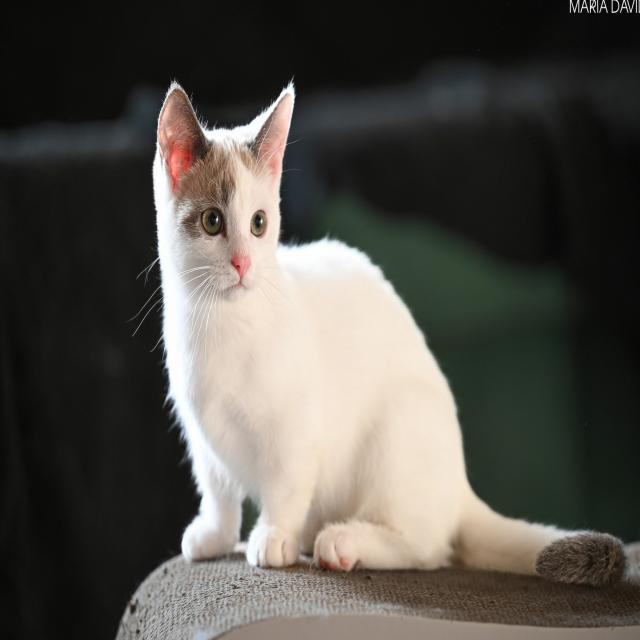Munchkin: (148, 73, 631, 596)
